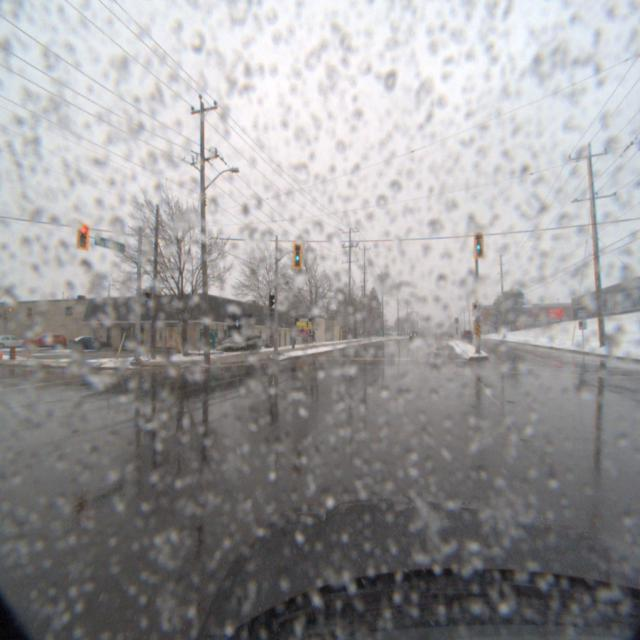Car: (25, 333, 75, 353), (71, 335, 119, 354)
